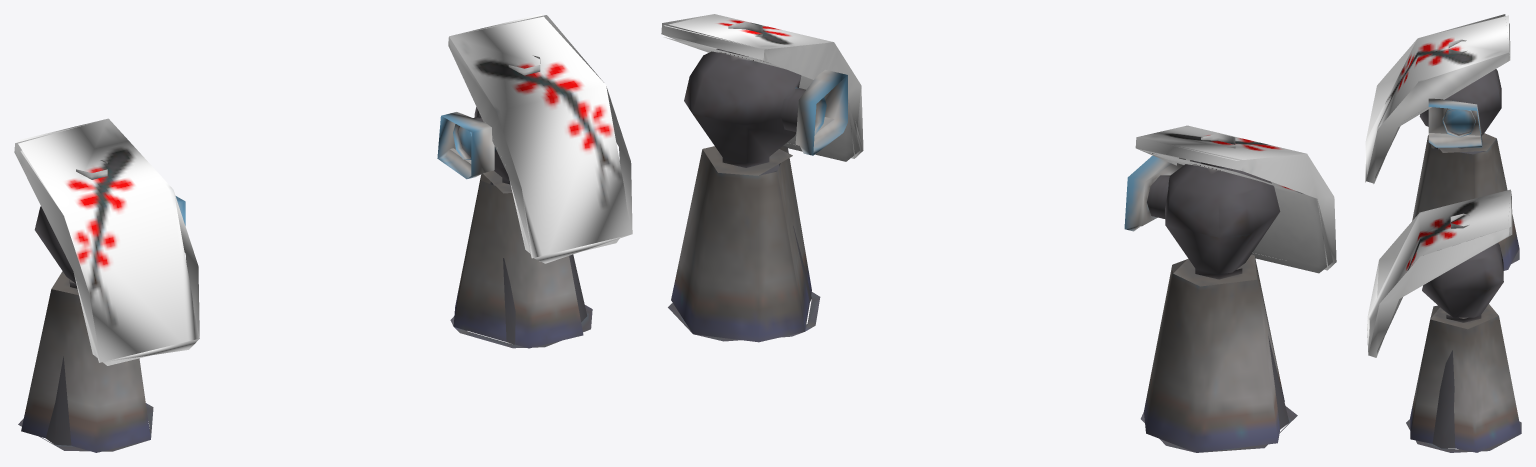
The model's file is jet.glb.
3 renders of one model, left to right at view 1: azimuth 30°, elevation 25°; view 2: azimuth 150°, elevation 25°; view 3: azimuth 270°, elevation 25°, orthographic. The views are drawn at different scales.
Parts seen in each view (by area): view 1: m_jumppack_04; view 2: m_jumppack_04; view 3: m_jumppack_04.
Boxes of the visible parts, left/top/right/bottom form: m_jumppack_04: left=14, top=14, right=632, bottom=452; m_jumppack_04: left=661, top=14, right=1336, bottom=452; m_jumppack_04: left=1365, top=14, right=1521, bottom=452.
Size of the model in its own units: 35.26 by 16.58 by 10.54.
1 material, 1 textured.
